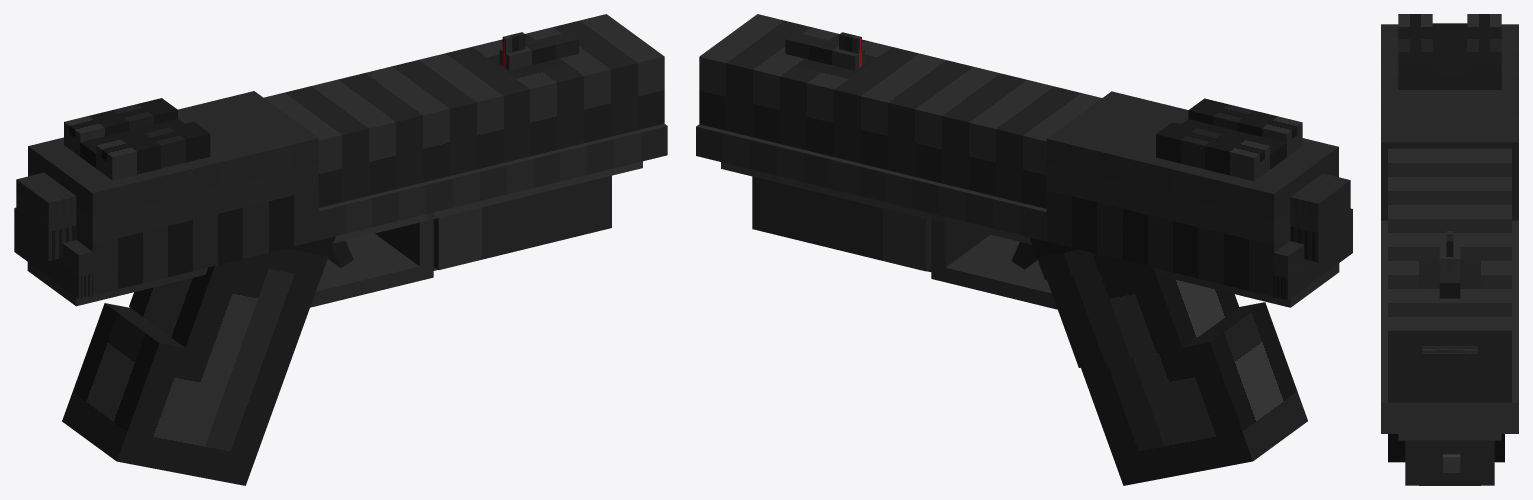
The model's file is pistol.glb.
The picture shows the model from 3 angles, left to right: view 1: azimuth 30°, elevation 25°; view 2: azimuth 150°, elevation 25°; view 3: azimuth 270°, elevation 25°; orthographic projection. The views are drawn at different scales.
Visible parts, largest first — view 1: cube_15, cube_3, cube_0, cube_1, cube_6, cube_13, cube_10, cube_5, cube_7, cube_8, cube_4, cube_17 (+4 smaller); view 2: cube_15, cube_3, cube_0, cube_1, cube_6, cube_13, cube_10, cube_5, cube_7, cube_8, cube_4, cube_18 (+4 smaller); view 3: cube_15, cube_3, cube_6, cube_13, cube_8, cube_16, cube_17, cube_18, cube_9, cube_0, cube_7, cube_14 (+1 smaller).
Part boxes in pixels (x1,y1,x2,y2): cube_15: [264, 14, 664, 207]; cube_3: [28, 91, 318, 295]; cube_0: [62, 303, 287, 485]; cube_1: [129, 262, 320, 367]; cube_6: [318, 123, 667, 240]; cube_13: [433, 175, 611, 269]; cube_10: [310, 233, 419, 307]; cube_5: [16, 172, 76, 261]; cube_7: [27, 161, 642, 306]; cube_8: [64, 118, 210, 180]; cube_4: [14, 207, 95, 298]; cube_17: [96, 121, 210, 165]; cube_15: [699, 14, 1101, 208]; cube_3: [1046, 91, 1338, 296]; cube_0: [1081, 302, 1307, 485]; cube_1: [1047, 263, 1238, 367]; cube_6: [696, 124, 1046, 241]; cube_13: [752, 176, 931, 271]; cube_10: [945, 234, 1057, 309]; cube_5: [1290, 173, 1350, 262]; cube_7: [721, 162, 1339, 307]; cube_8: [1156, 119, 1302, 181]; cube_4: [1271, 208, 1352, 300]; cube_18: [1156, 122, 1270, 166]; cube_15: [1388, 148, 1511, 402]; cube_3: [1381, 24, 1518, 220]; cube_6: [1381, 220, 1518, 433]; cube_13: [1405, 440, 1494, 485]; cube_8: [1398, 23, 1501, 89]; cube_16: [1422, 346, 1477, 394]; cube_17: [1398, 14, 1432, 74]; cube_18: [1467, 14, 1501, 74]; cube_9: [1439, 246, 1460, 298]; cube_0: [1388, 434, 1504, 462]; cube_7: [1398, 434, 1501, 440]; cube_14: [1443, 454, 1460, 472].
Size of the model in its own units: 0.6906 by 0.3813 by 0.125.
Materials: 1 (1 with a texture image).
